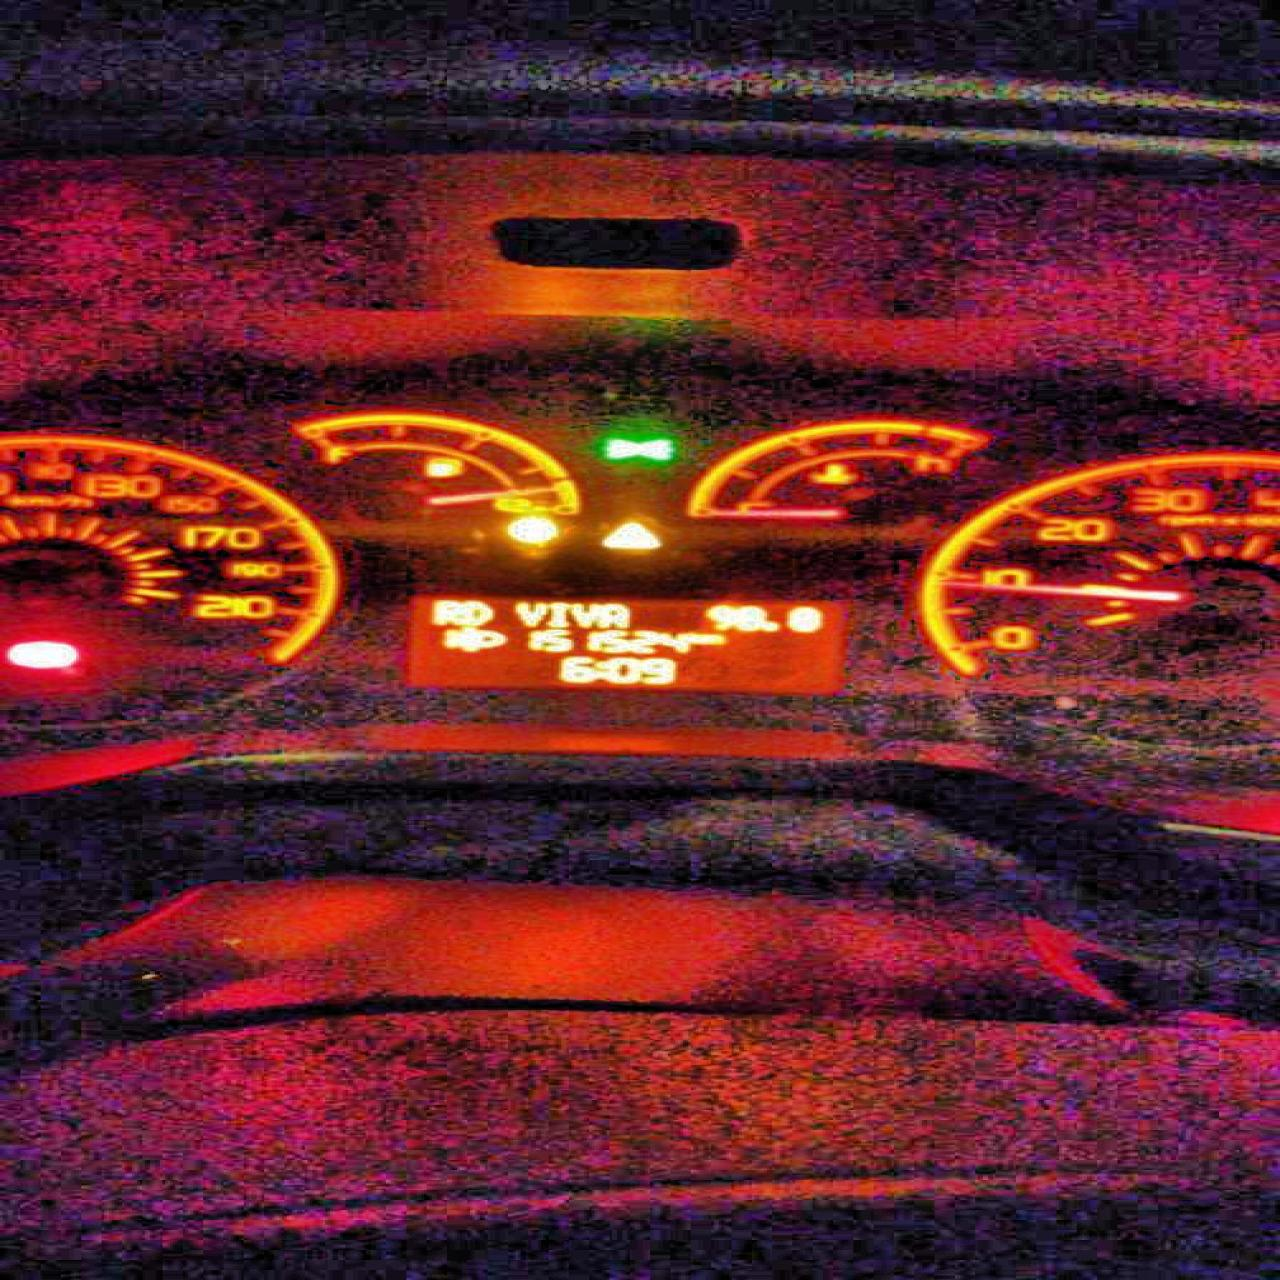-: (760, 620, 777, 631)
0: (782, 604, 823, 633), (607, 656, 638, 683)
1: (581, 628, 599, 653), (440, 626, 457, 651), (524, 627, 538, 652)
2: (627, 628, 658, 653)
4: (658, 629, 686, 652)
5: (538, 627, 572, 652), (599, 628, 627, 653)
6: (553, 654, 592, 682)
8: (734, 604, 764, 629)
9: (640, 656, 675, 683), (699, 604, 734, 629)
X: (511, 599, 546, 626), (597, 600, 629, 628), (427, 599, 459, 625), (459, 599, 492, 625), (568, 600, 597, 628), (546, 599, 568, 627), (592, 659, 607, 679), (701, 632, 724, 644), (688, 628, 701, 644)
odometer: (396, 591, 847, 697)
